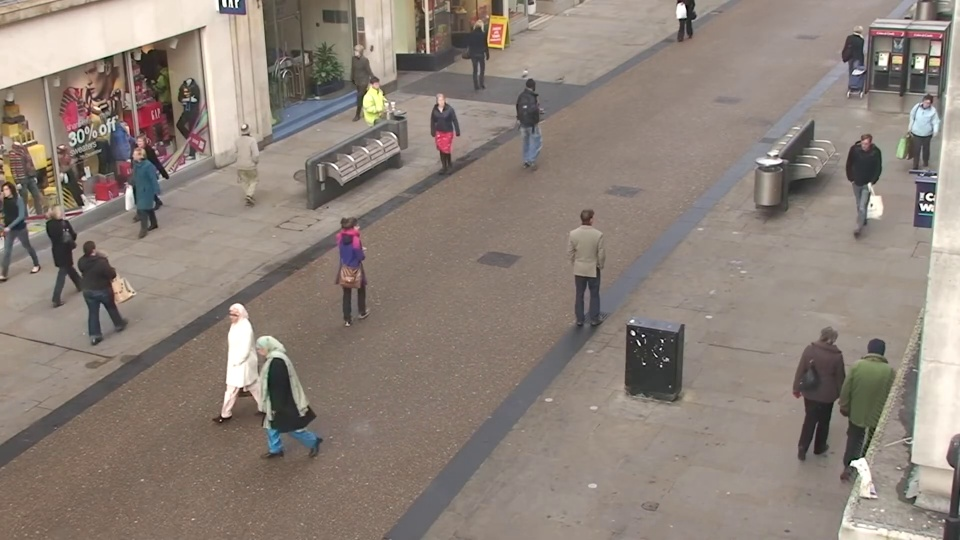pedestrian: (847, 324, 907, 478), (231, 327, 288, 476), (803, 311, 859, 460), (203, 298, 259, 439), (80, 229, 135, 352), (45, 194, 98, 308), (337, 206, 380, 326), (569, 204, 607, 324), (114, 148, 158, 250), (840, 135, 882, 238), (897, 92, 941, 186), (119, 131, 161, 228), (235, 117, 272, 211), (422, 92, 454, 181), (358, 76, 388, 160), (841, 21, 874, 96), (521, 75, 550, 160), (341, 43, 369, 117), (471, 17, 495, 85)
